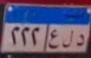2: (7, 24, 22, 47), (29, 27, 41, 49), (19, 27, 30, 47)
د: (73, 31, 85, 49)
ع: (47, 28, 58, 50)
ل: (58, 29, 74, 49)
